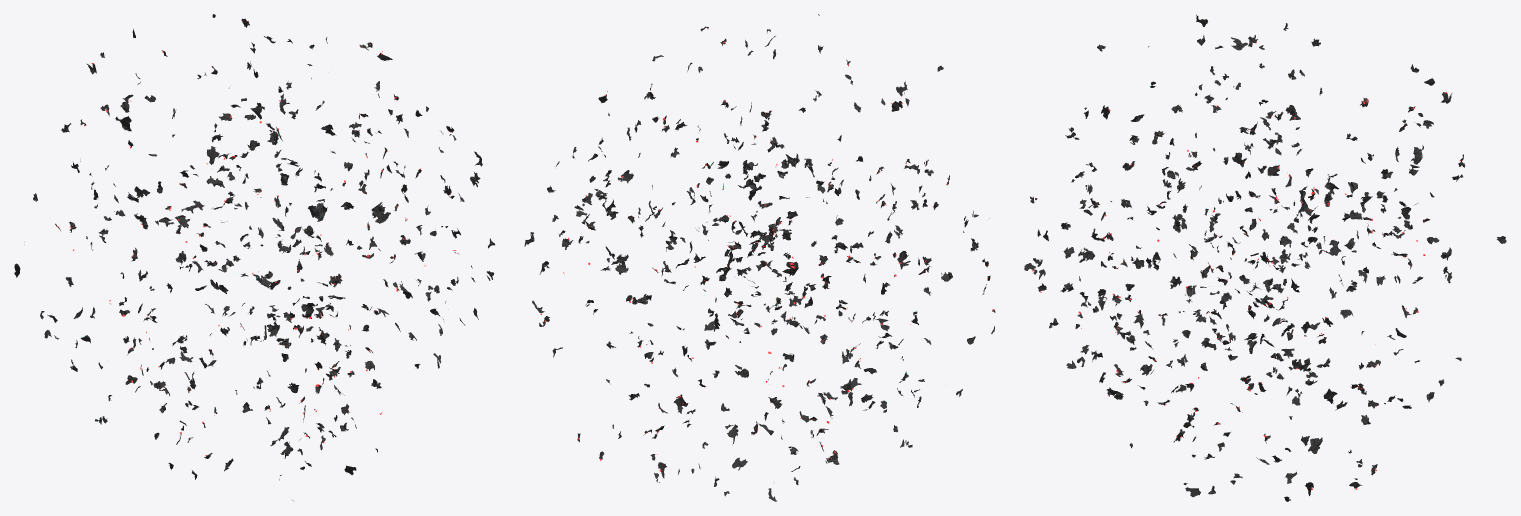
The model's file is asteroidBonnyFraction.glb.
The picture shows the model from 3 angles, left to right: view 1: azimuth 30°, elevation 25°; view 2: azimuth 150°, elevation 25°; view 3: azimuth 270°, elevation 25°; orthographic projection.
Parts seen in each view (by area): view 1: 1277 T-2 Durech; view 2: 1277 T-2 Durech; view 3: 1277 T-2 Durech.
Boxes of the visible parts, x1,y1,x2,y2 form: 1277 T-2 Durech: [14, 14, 494, 500]; 1277 T-2 Durech: [524, 14, 995, 501]; 1277 T-2 Durech: [1024, 14, 1506, 501].
Size of the model in its own units: 8.19 by 8.66 by 8.39.
